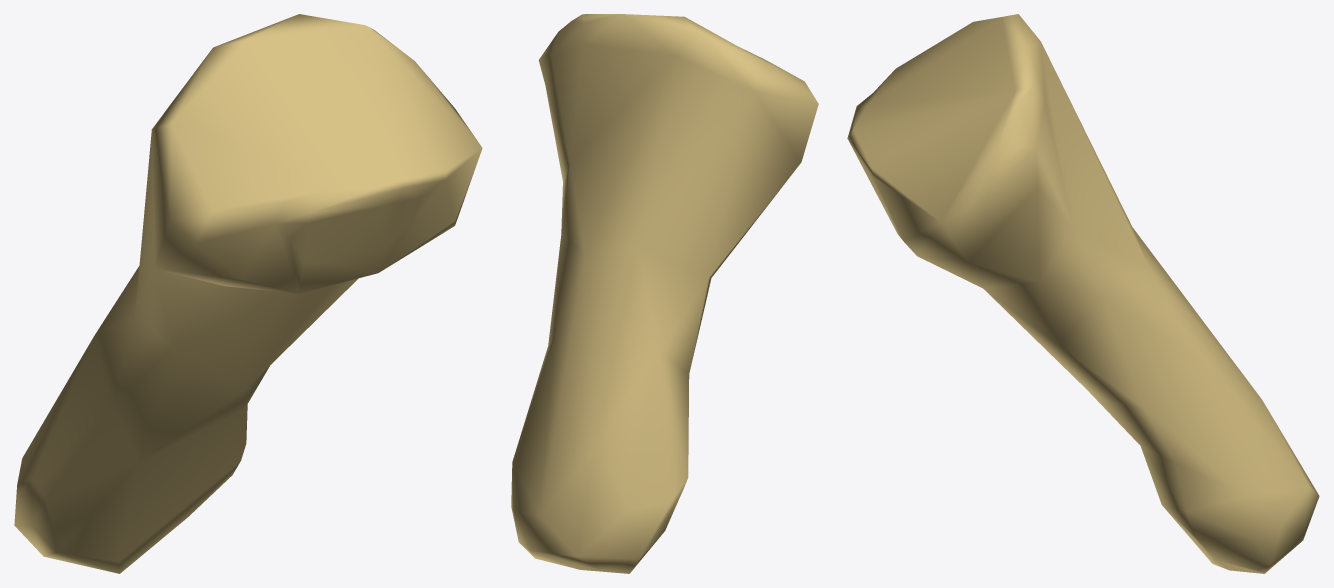
3 renders of one model, left to right at view 1: azimuth 30°, elevation 25°; view 2: azimuth 150°, elevation 25°; view 3: azimuth 270°, elevation 25°, orthographic. The views are drawn at different scales.
Parts seen in each view (by area): view 1: 右侧第三指远节指骨; view 2: 右侧第三指远节指骨; view 3: 右侧第三指远节指骨.
Part boxes in pixels (x1,y1,x2,y2): 右侧第三指远节指骨: (14, 14, 482, 573); 右侧第三指远节指骨: (511, 14, 818, 573); 右侧第三指远节指骨: (847, 14, 1319, 573).
Bounding box in the file's own units: 0.0145 × 0.0264 × 0.0205.
